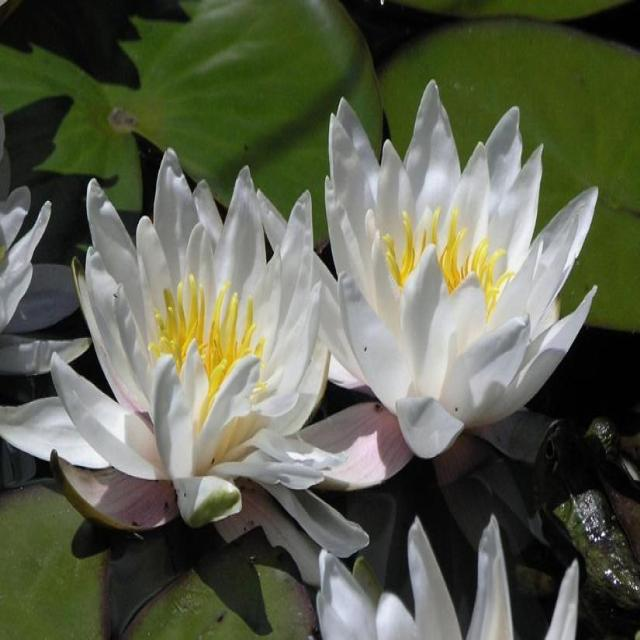water-lily: (300, 34, 611, 491), (49, 142, 342, 590)
